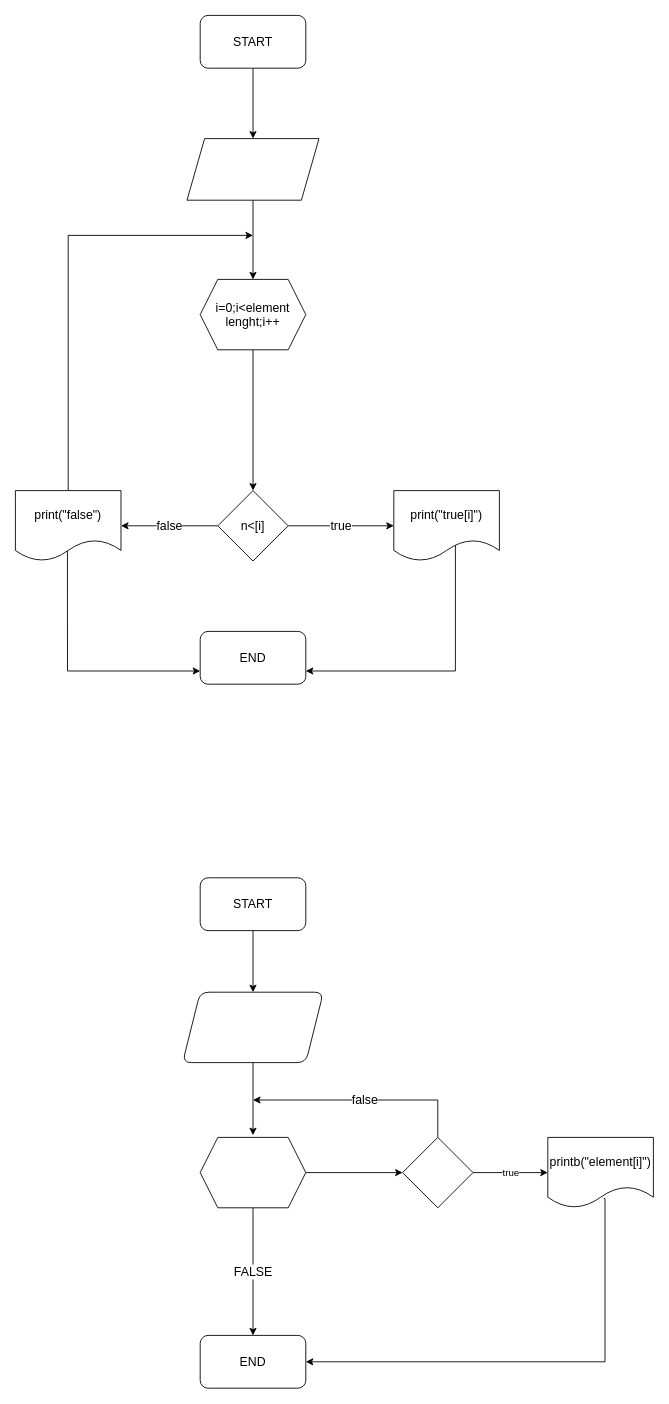
The diagram is 669 pixels wide and 1404 high, and some of its shapes have lost their labels. Here are the shapes that lost their labels. From the top down, the centre of each, then its label:
At point (252, 169): "element=[10,20,30,40,50],n".
At point (252, 1027): "element=[10,20,30,40,50]".
At point (252, 1172): "i=0;i<element lenght ;i++".
At point (437, 1172): "i%2==o".
